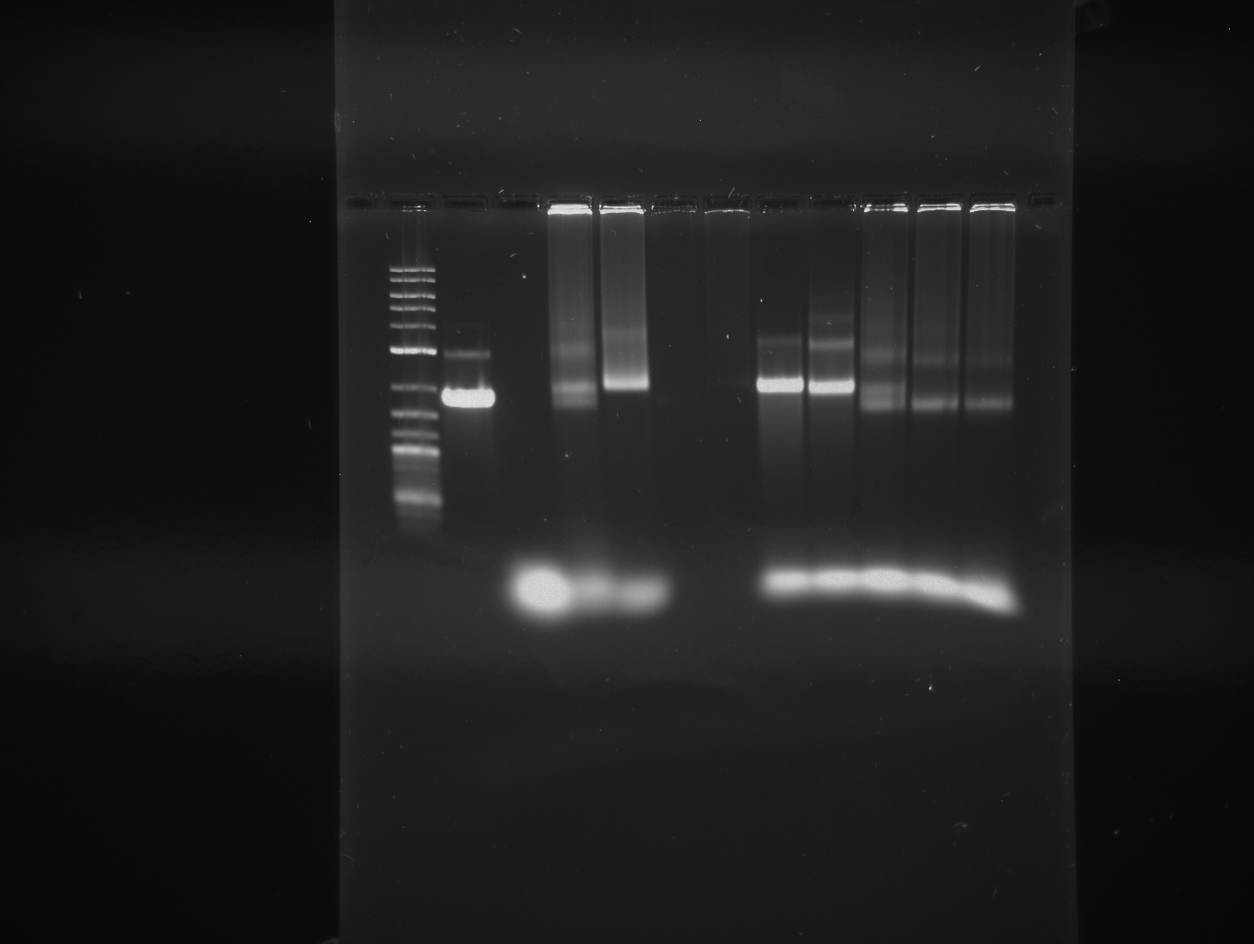Lane: (436, 171, 498, 944), (597, 161, 650, 944), (968, 171, 1021, 944), (860, 173, 911, 944), (756, 171, 806, 944), (551, 157, 597, 944), (503, 168, 549, 944), (915, 177, 961, 944), (814, 175, 856, 944), (657, 166, 696, 944), (704, 168, 740, 944)
ladder: (387, 166, 441, 944)
